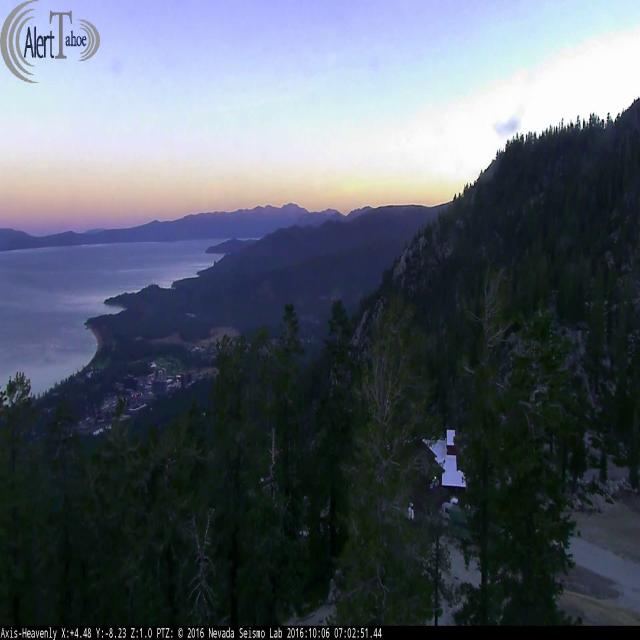smoke: (290, 306, 322, 326)
